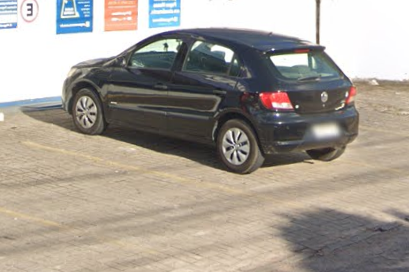car: (60, 24, 360, 176)
